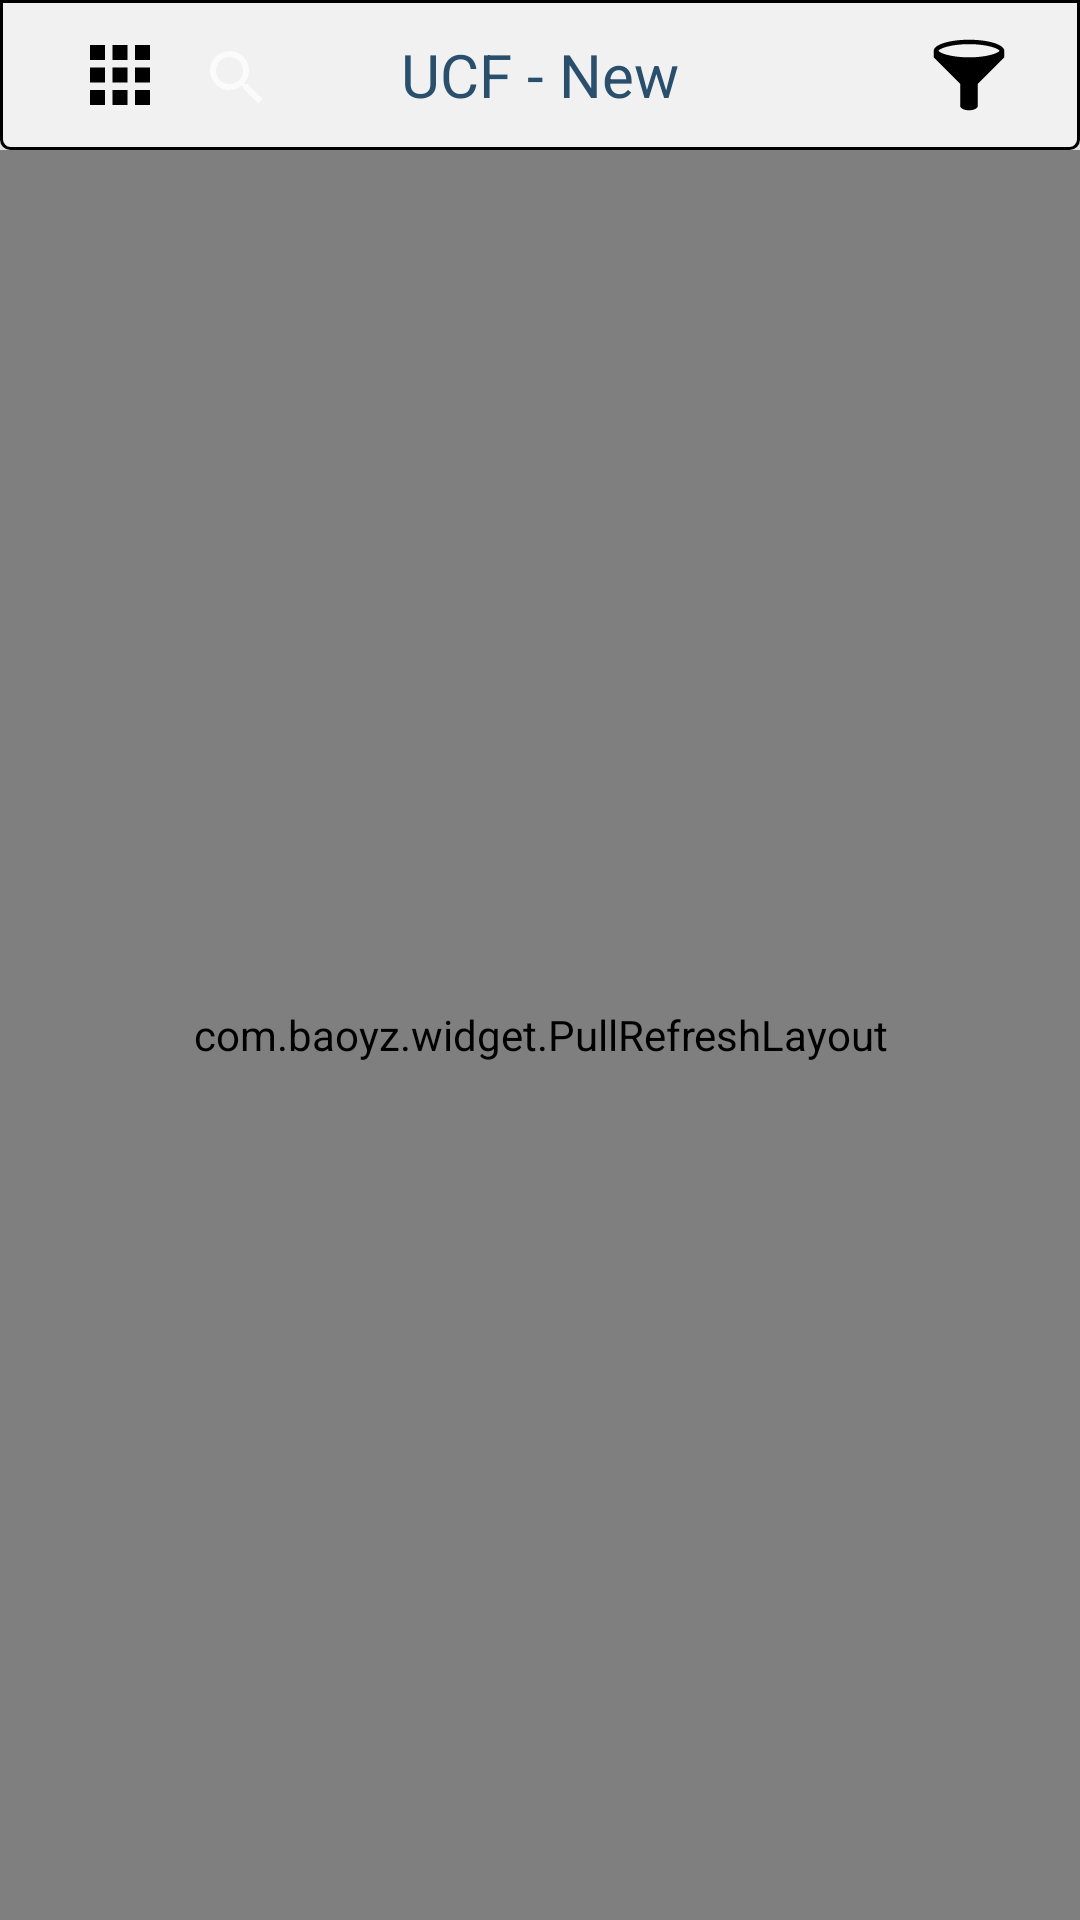

Named icons in this screenshot (1080 x 1920) and their bounding boxes, [x1,y1,x2,y2]:
categories: [90,45,150,105]
funnel: [933,39,1005,111]
